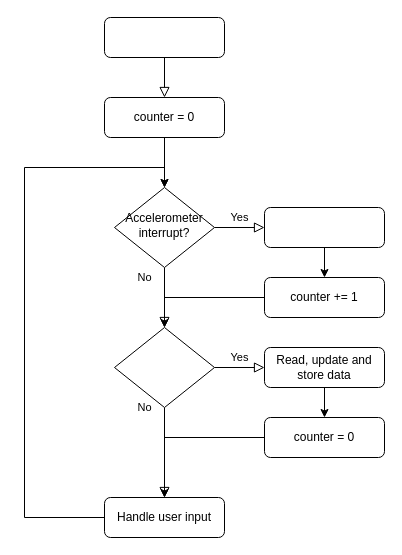
The diagram is 402 pixels wide and 555 high, and some of its shapes have lost their labels. Each missing label, with the centre of its shape:
counter >= 20: [164,367]
Log accellerometer: [324,227]
Setup: [164,37]
